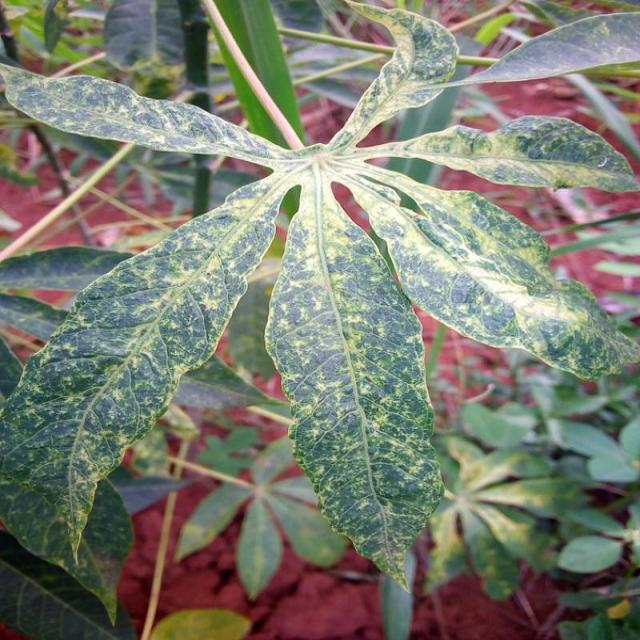cassava leaf: (0, 0, 638, 607), (263, 163, 445, 593)
